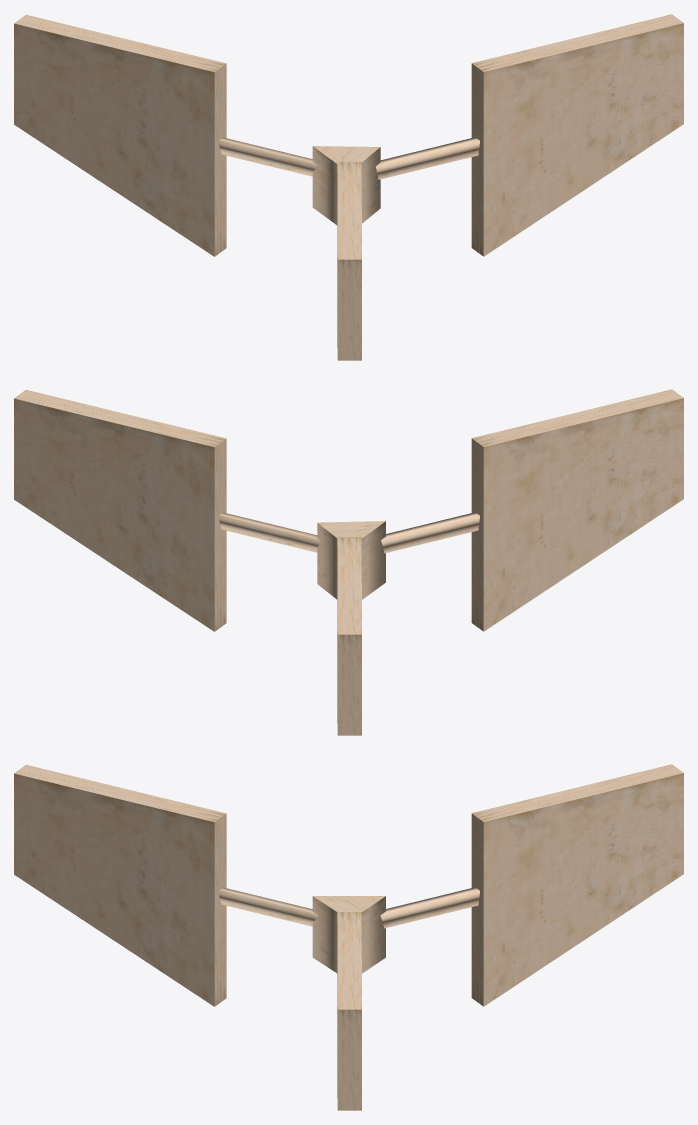
File: ins_all_min_moisture_s01_u0_prop_l1.fbx
3 views of the same model, one above another, from view 1: azimuth 30°, elevation 25°; view 2: azimuth 150°, elevation 25°; view 3: azimuth 270°, elevation 25° (orthographic).
Visible parts, largest first — view 1: mesh_node; view 2: mesh_node; view 3: mesh_node.
Part boxes in pixels (bbox=[...]): mesh_node: bbox=[14, 14, 683, 360]; mesh_node: bbox=[14, 389, 683, 735]; mesh_node: bbox=[14, 764, 683, 1110].
Bounding box in the file's own units: 0.8022 × 0.2815 × 0.9254.
